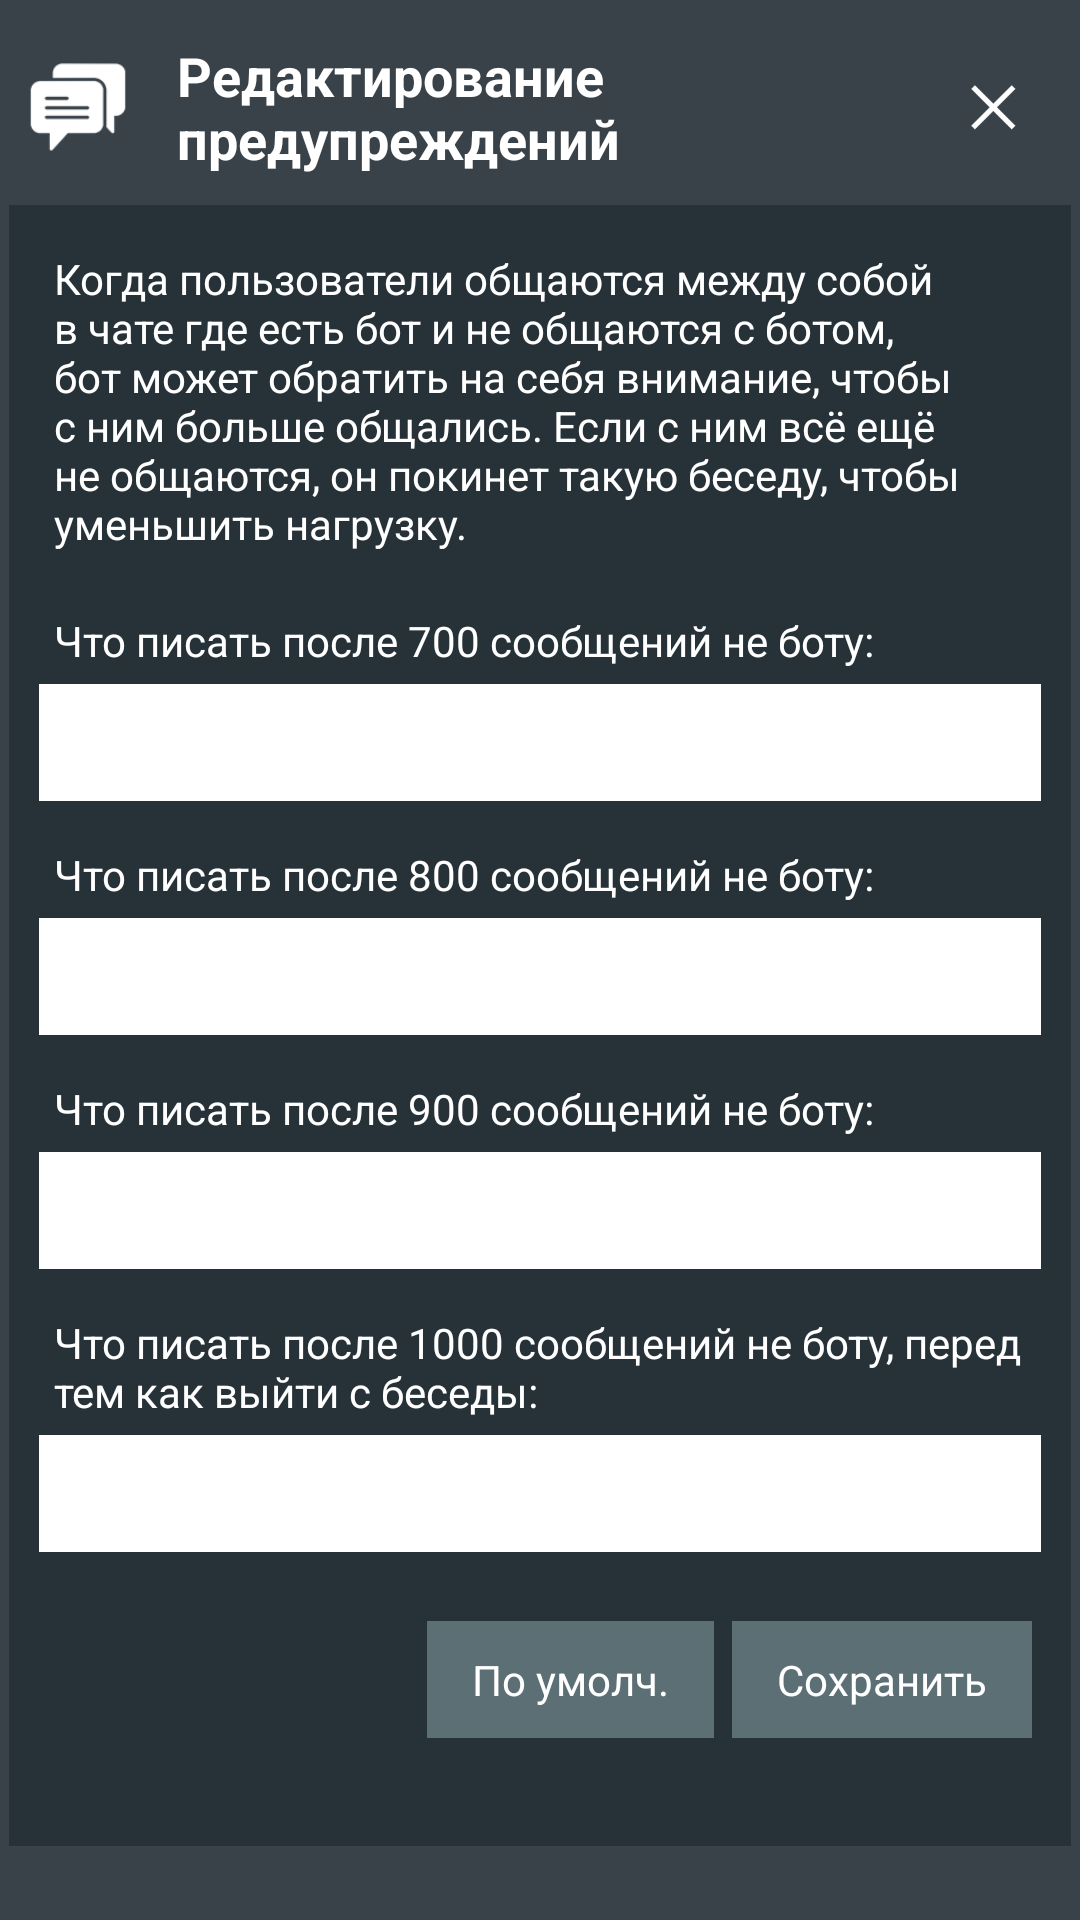

Point at icon controls on the screen. Image size 1080w x 1920h, points as [x,y].
chat: [78,107]
cross: [993,107]
